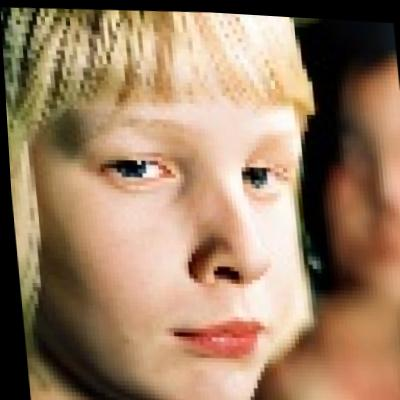sad: (43, 41, 280, 400)
